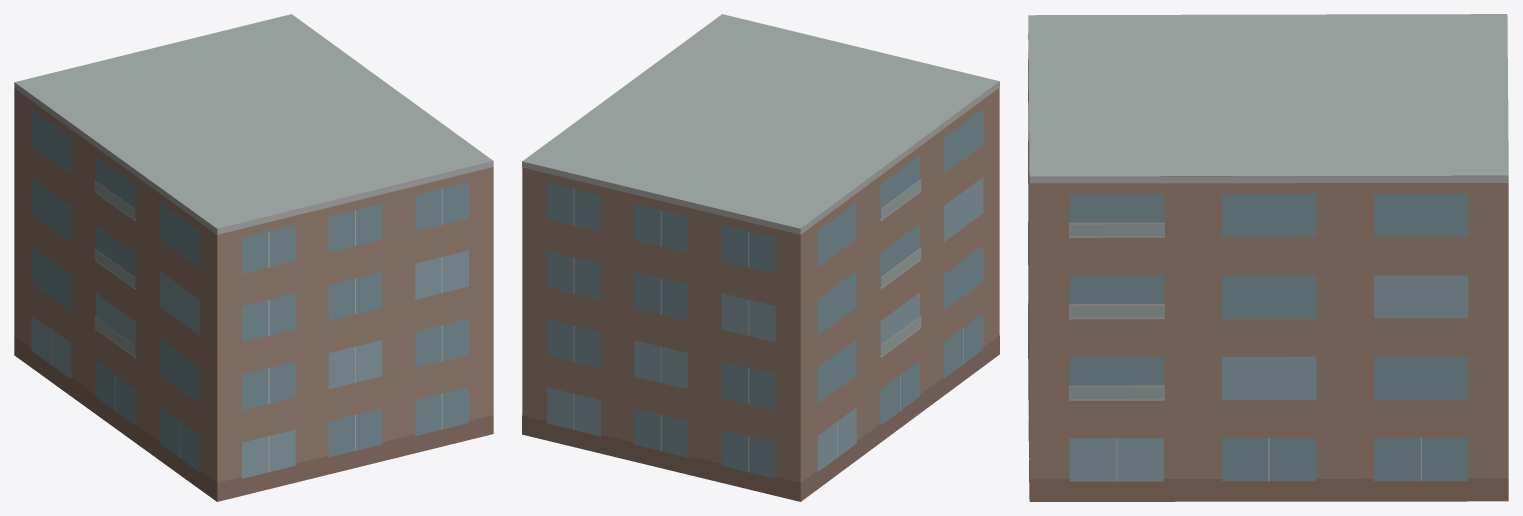
Rendered from survey-upis-32856463.glb.
3 views of the same model, side by side, from view 1: azimuth 30°, elevation 25°; view 2: azimuth 150°, elevation 25°; view 3: azimuth 270°, elevation 25° (orthographic). The views are drawn at different scales.
Visible parts, largest first — view 1: survey-upis-32856463.tmp; view 2: survey-upis-32856463.tmp; view 3: survey-upis-32856463.tmp.
Part boxes in pixels (left/top/right/bottom): survey-upis-32856463.tmp: left=14, top=14, right=493, bottom=501; survey-upis-32856463.tmp: left=522, top=14, right=999, bottom=501; survey-upis-32856463.tmp: left=1028, top=14, right=1508, bottom=501.
Size of the model in its own units: 11.85 by 11.05 by 14.79.
